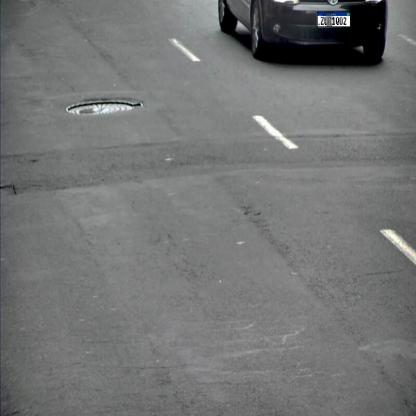PlacaM: (317, 12, 351, 27)
